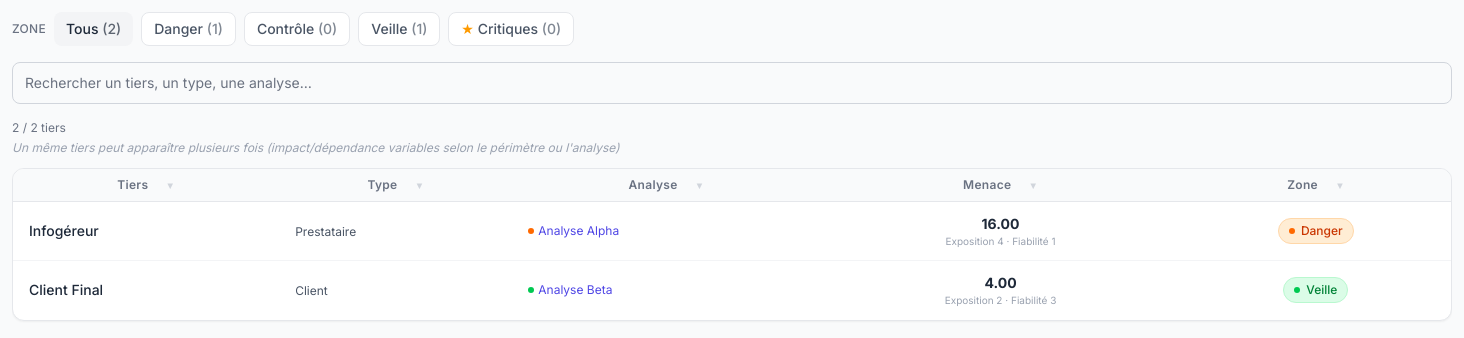
Test: TiersClient › affiche un état vide sans correspondance
This screenshot has width=1464, height=338.
Type "zzz-introuvable" into the field with placeholder "Rechercher un tiers, un type, une analyse…".
click(732, 83); type("zzz-introuvable")  # box top-left (12, 62), bottom-right (1452, 104)
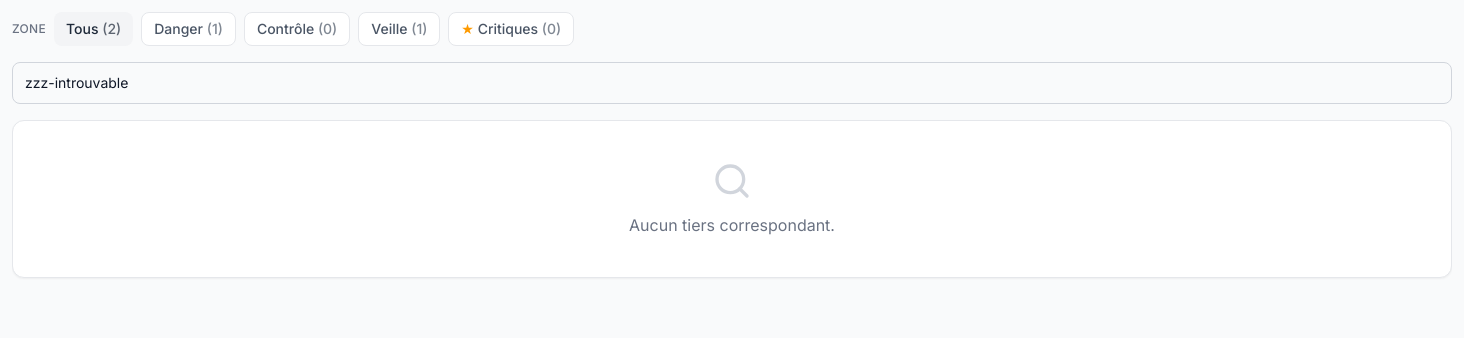
Check: the text "Infogéreur" is not shown
Check: the text "Client Final" is not shown
